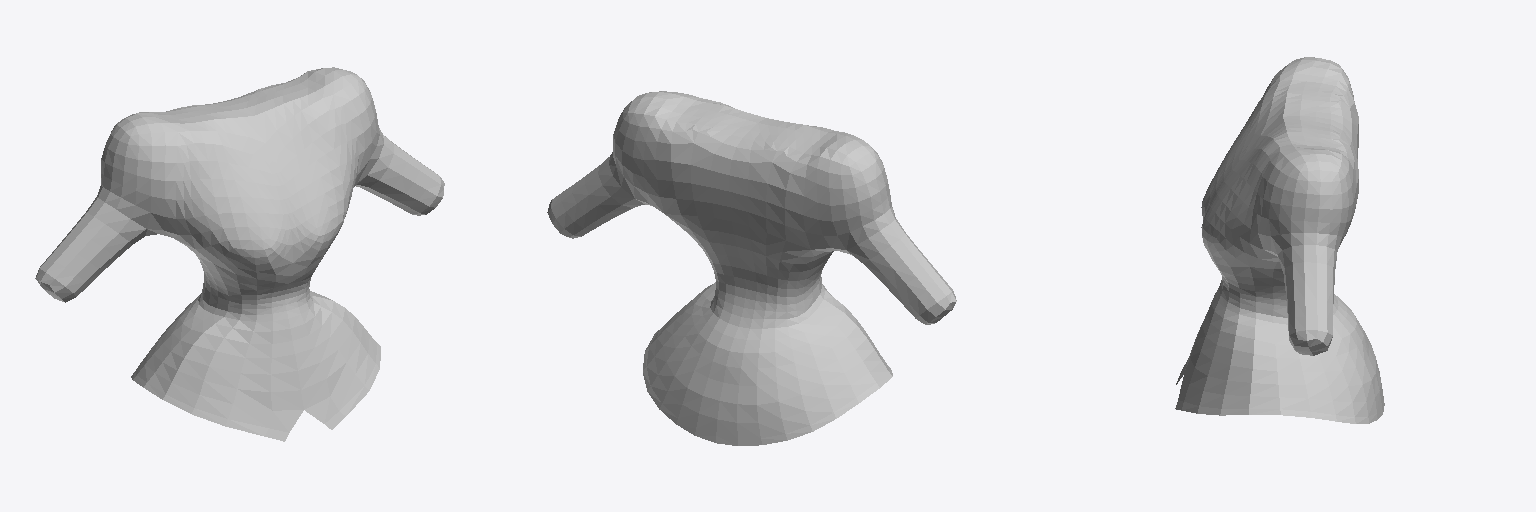
File: Chest01.OBJ
The picture shows the model from 3 angles: view 1: azimuth 30°, elevation 25°; view 2: azimuth 150°, elevation 25°; view 3: azimuth 270°, elevation 25°; orthographic projection.
Visible parts, largest first — view 1: Group2; view 2: Group2; view 3: Group2.
Part boxes in pixels (left/top/right/bottom): Group2: left=35, top=67, right=444, bottom=441; Group2: left=547, top=91, right=956, bottom=445; Group2: left=1175, top=57, right=1384, bottom=423.
Size of the model in its own units: 63.98 by 45.02 by 28.72.